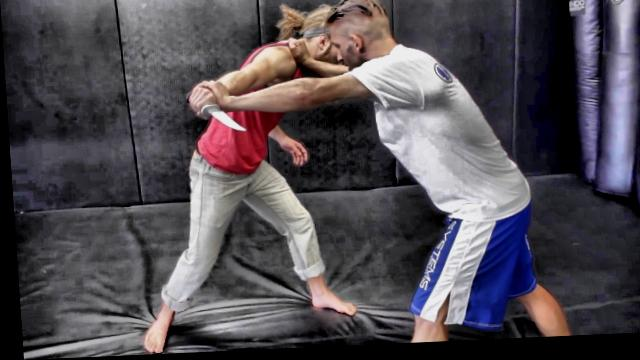knife: (180, 89, 249, 139)
